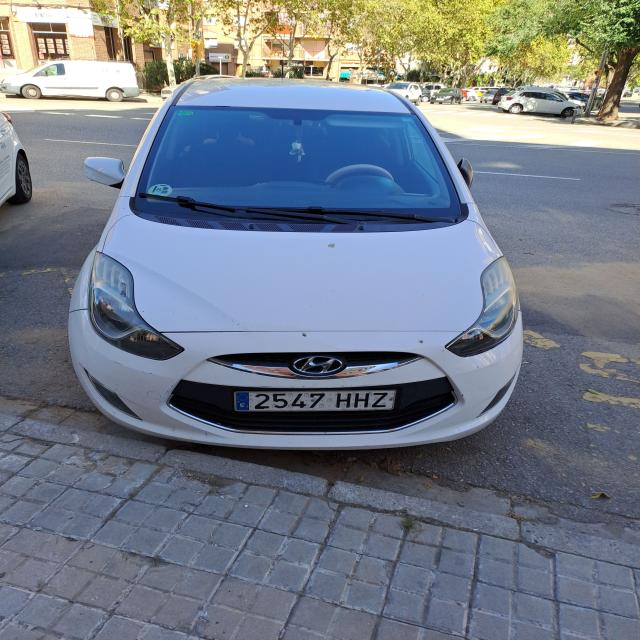license_plate-34Td: (233, 389, 396, 411)
